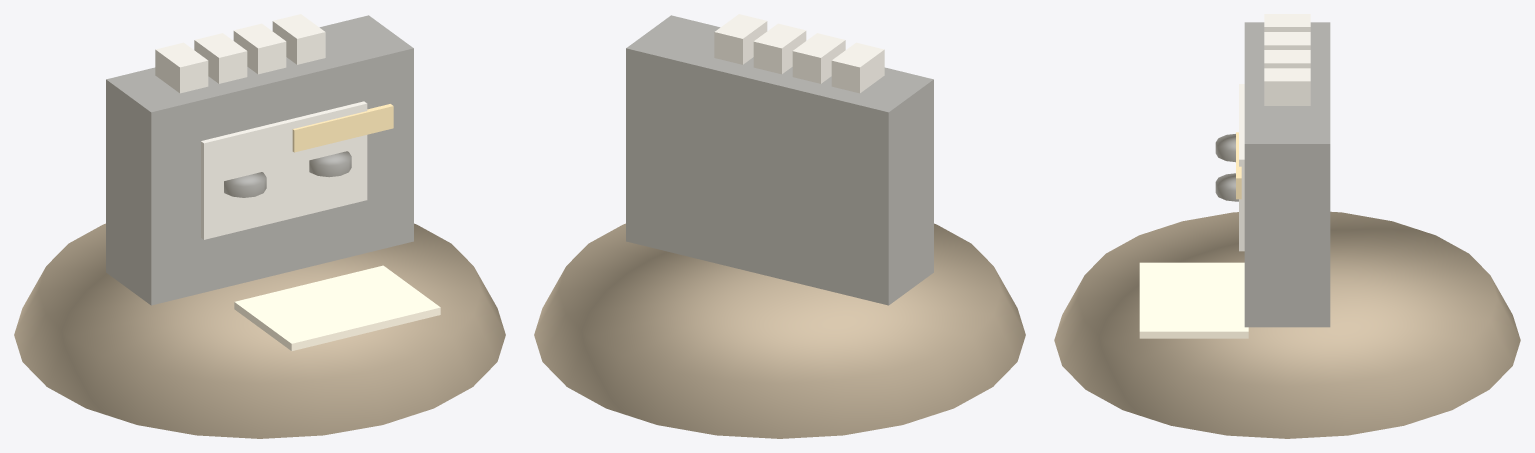
File: mothers-cassette-player.glb
3 renders of one model, left to right at view 1: azimuth 30°, elevation 25°; view 2: azimuth 150°, elevation 25°; view 3: azimuth 270°, elevation 25°, orthographic. The views are drawn at different scales.
Parts seen in each view (by area): view 1: MothersCassettePlayer; view 2: MothersCassettePlayer; view 3: MothersCassettePlayer.
Boxes of the visible parts, bbox=[...] form: MothersCassettePlayer: bbox=[14, 14, 505, 438]; MothersCassettePlayer: bbox=[534, 14, 1025, 438]; MothersCassettePlayer: bbox=[1054, 14, 1520, 438].
Bounding box in the file's own units: 1.2 × 0.805 × 1.2.
